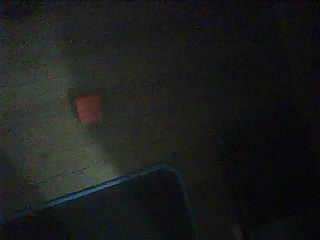lego: (74, 95, 107, 122)
